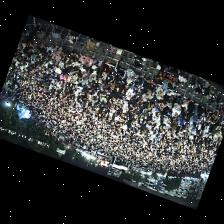person: (114, 54, 127, 79), (100, 60, 113, 76), (172, 96, 182, 116), (164, 89, 178, 102), (153, 89, 163, 107), (144, 79, 156, 94), (127, 68, 139, 82), (81, 54, 93, 67), (156, 85, 167, 99), (155, 101, 165, 116), (68, 51, 80, 63), (164, 102, 172, 120), (134, 98, 144, 112), (121, 100, 131, 113), (180, 114, 188, 130), (188, 101, 197, 115), (106, 71, 115, 85), (134, 75, 144, 87), (194, 106, 200, 126), (142, 88, 152, 100), (126, 84, 134, 99), (68, 65, 79, 75), (36, 44, 47, 54), (197, 105, 206, 117), (45, 44, 54, 56), (182, 99, 191, 111), (135, 81, 144, 93), (115, 79, 124, 91), (209, 113, 218, 123), (84, 66, 94, 75), (51, 54, 61, 63), (89, 70, 97, 81), (111, 90, 119, 101), (74, 58, 82, 69), (54, 45, 63, 54), (64, 58, 73, 67), (124, 79, 133, 88), (60, 74, 68, 84), (99, 74, 107, 83), (19, 41, 27, 50), (93, 59, 101, 68), (62, 50, 68, 61), (138, 91, 143, 104), (160, 63, 168, 71), (58, 61, 65, 70), (189, 116, 194, 128), (33, 40, 38, 51), (217, 116, 223, 124), (80, 67, 85, 76), (54, 60, 59, 68)
